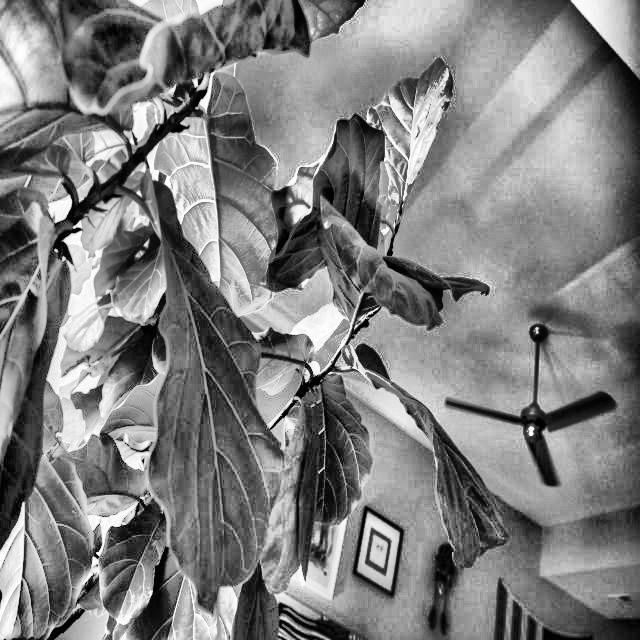plants: (1, 0, 509, 639), (258, 316, 506, 577), (5, 413, 91, 639), (95, 496, 177, 616)
